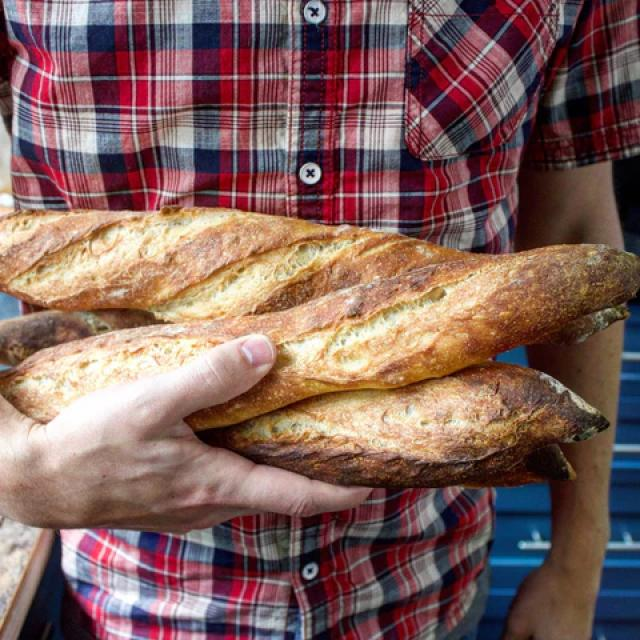Baguette: (0, 245, 639, 429), (0, 208, 468, 320), (196, 363, 608, 488)
